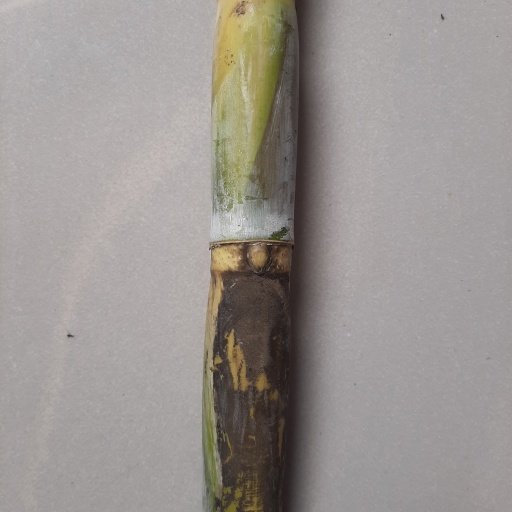Bud: (244, 243, 273, 275)
